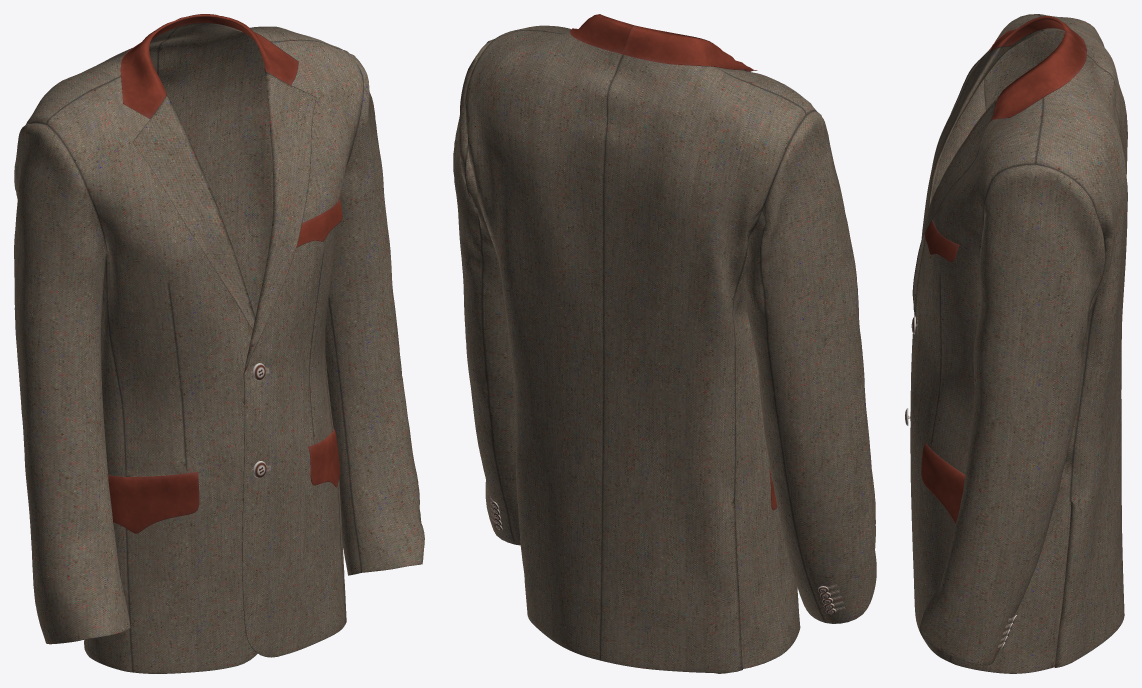
Rendered from jacket.glb.
3 renders of one model, left to right at view 1: azimuth 30°, elevation 25°; view 2: azimuth 150°, elevation 25°; view 3: azimuth 270°, elevation 25°, orthographic. The views are drawn at different scales.
Visible parts, largest first — view 1: Object; view 2: Object; view 3: Object.
Part boxes in pixels (bbox=[...]): Object: bbox=[14, 14, 424, 673]; Object: bbox=[453, 14, 876, 673]; Object: bbox=[905, 14, 1127, 673].
Size of the model in its own units: 0.5573 by 0.8515 by 0.2928.
Materials: 1 (1 with a texture image).
